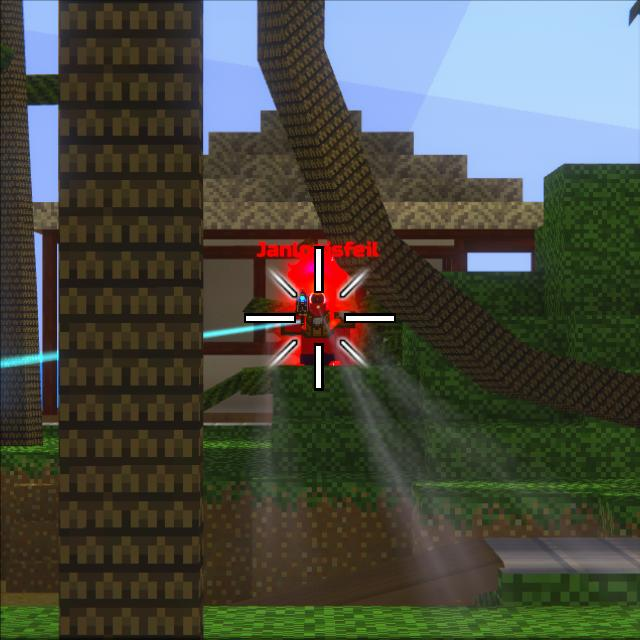Enemy: (282, 291, 357, 367)
